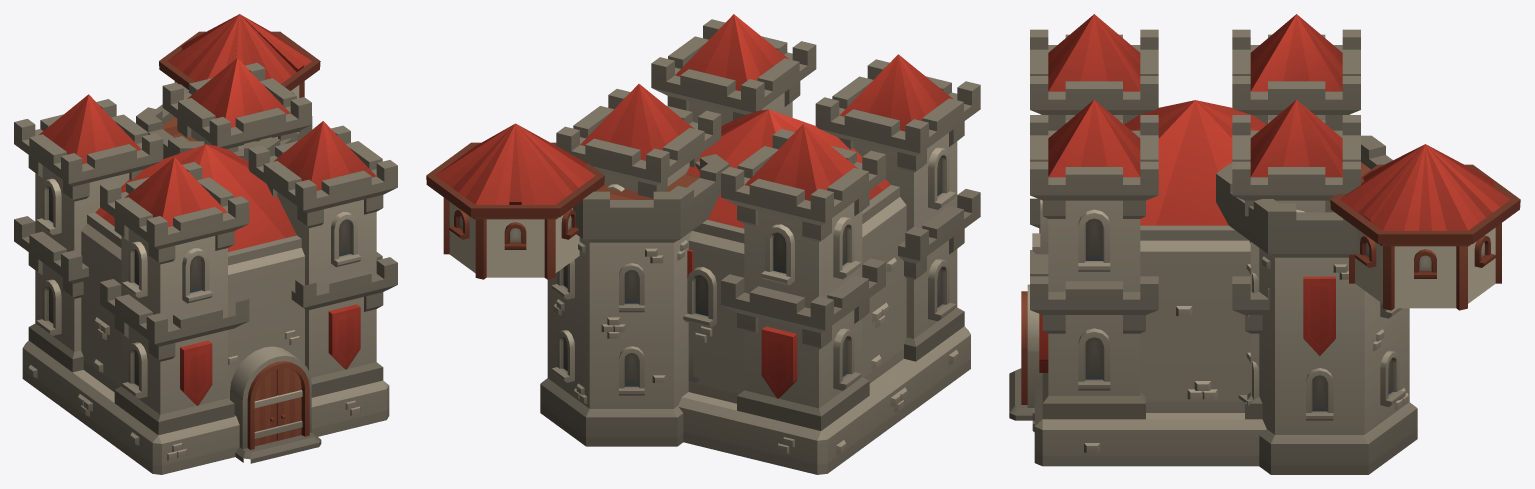
The model's file is sns_townhall_kitbash.glb.
3 views of the same model, side by side, from view 1: azimuth 30°, elevation 25°; view 2: azimuth 150°, elevation 25°; view 3: azimuth 270°, elevation 25° (orthographic). The views are drawn at different scales.
Visible parts, largest first — view 1: sns_town_hall_kitbash; view 2: sns_town_hall_kitbash; view 3: sns_town_hall_kitbash.
Boxes of the visible parts, x1,y1,x2,y2 form: sns_town_hall_kitbash: [14, 14, 397, 474]; sns_town_hall_kitbash: [426, 14, 980, 474]; sns_town_hall_kitbash: [1009, 14, 1520, 474].
Bounding box in the file's own units: 3 × 2.65 × 3.6.
Materials: 2 (2 with a texture image).
